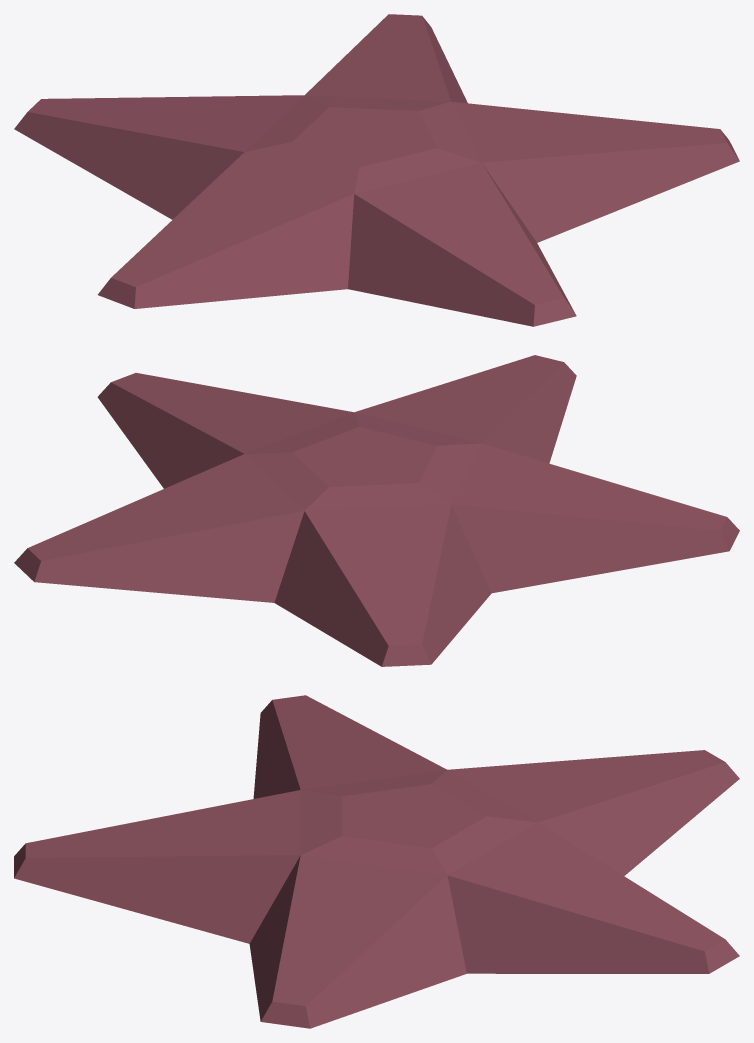
File: env_props_estrellamar.fbx
3 renders of one model, top to bottom at view 1: azimuth 30°, elevation 25°; view 2: azimuth 150°, elevation 25°; view 3: azimuth 270°, elevation 25°, orthographic. The views are drawn at different scales.
Visible parts, largest first — view 1: env_prop_estrellamar; view 2: env_prop_estrellamar; view 3: env_prop_estrellamar.
Boxes of the visible parts, box(x1,y1,x2,y2) form: env_prop_estrellamar: box(14, 14, 739, 326); env_prop_estrellamar: box(14, 355, 739, 666); env_prop_estrellamar: box(14, 695, 739, 1028).
Bounding box in the file's own units: 3.93 × 0.4508 × 3.73.
